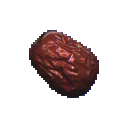gd: (20, 20, 115, 110)
